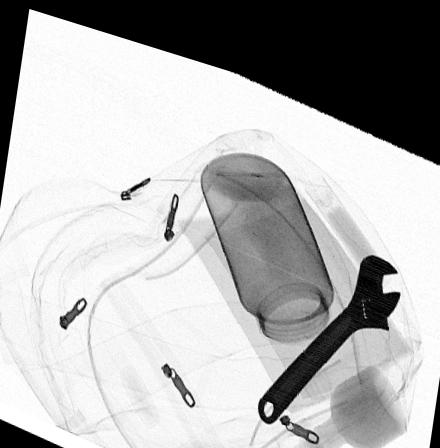Wrench: (256, 231, 402, 410)
